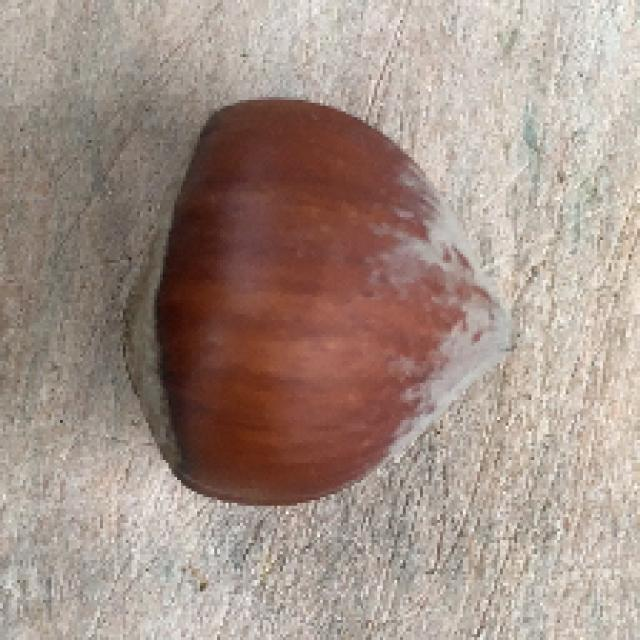qualityHazelnut: (110, 86, 505, 512)
